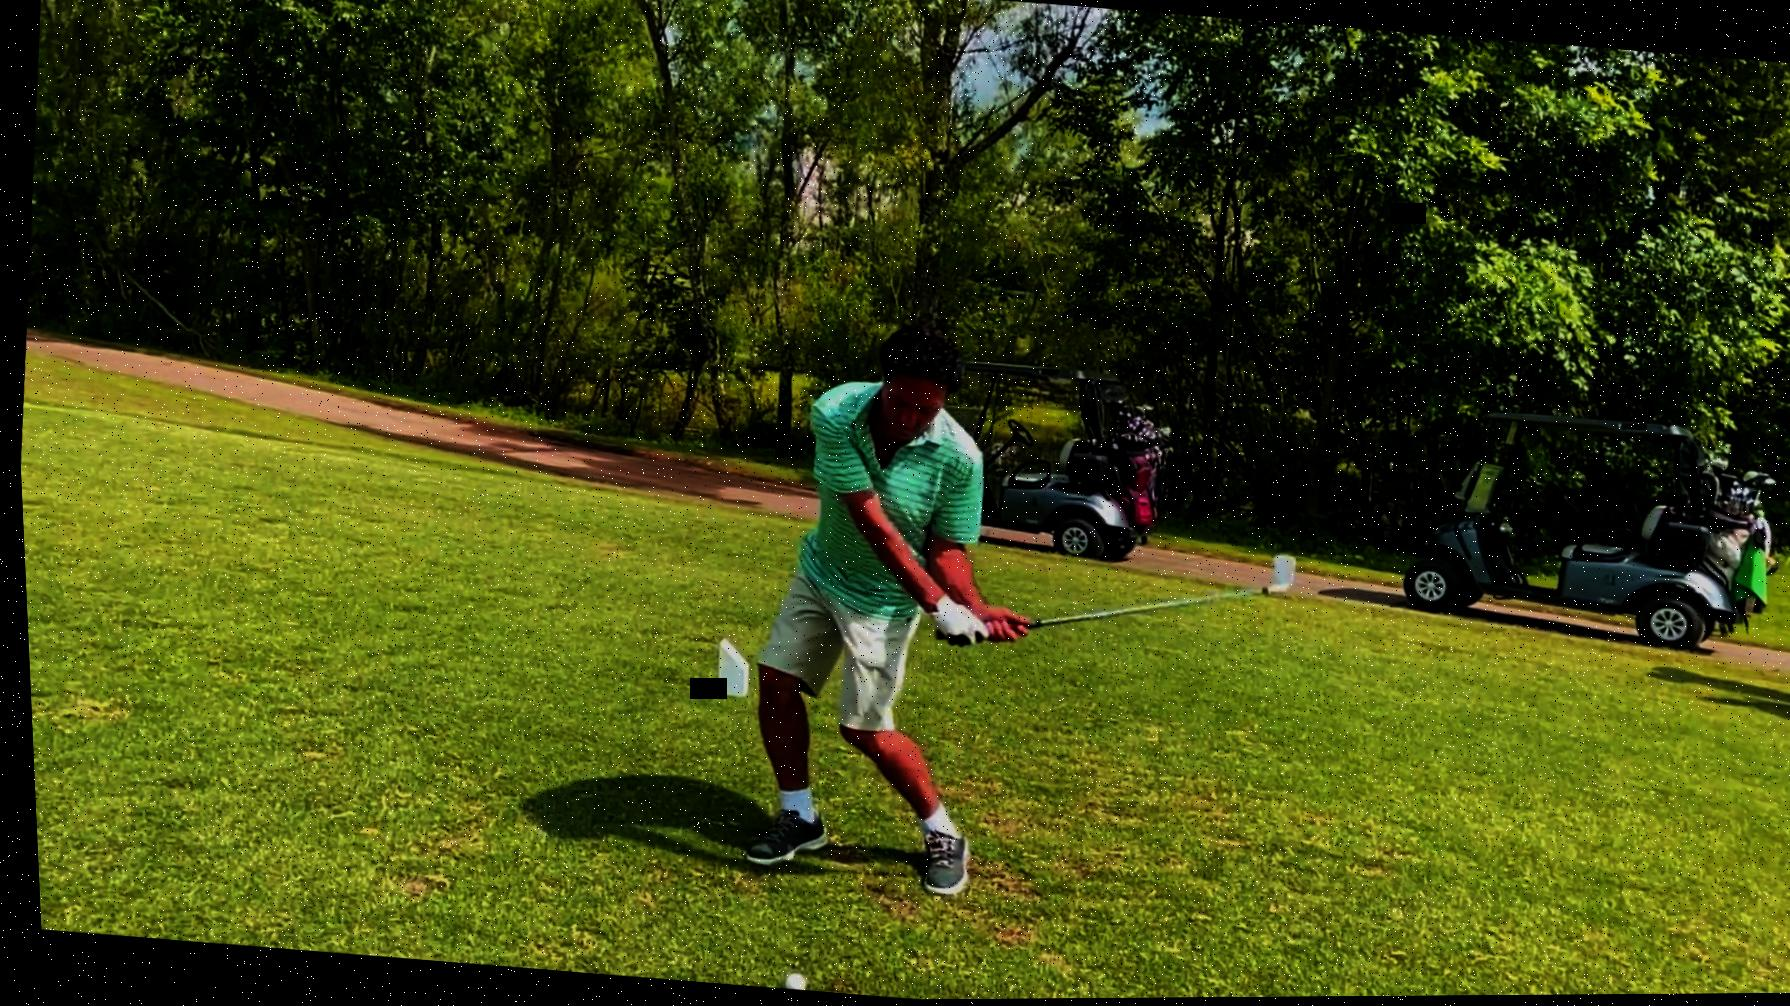GolfBall: (766, 968, 803, 992)
